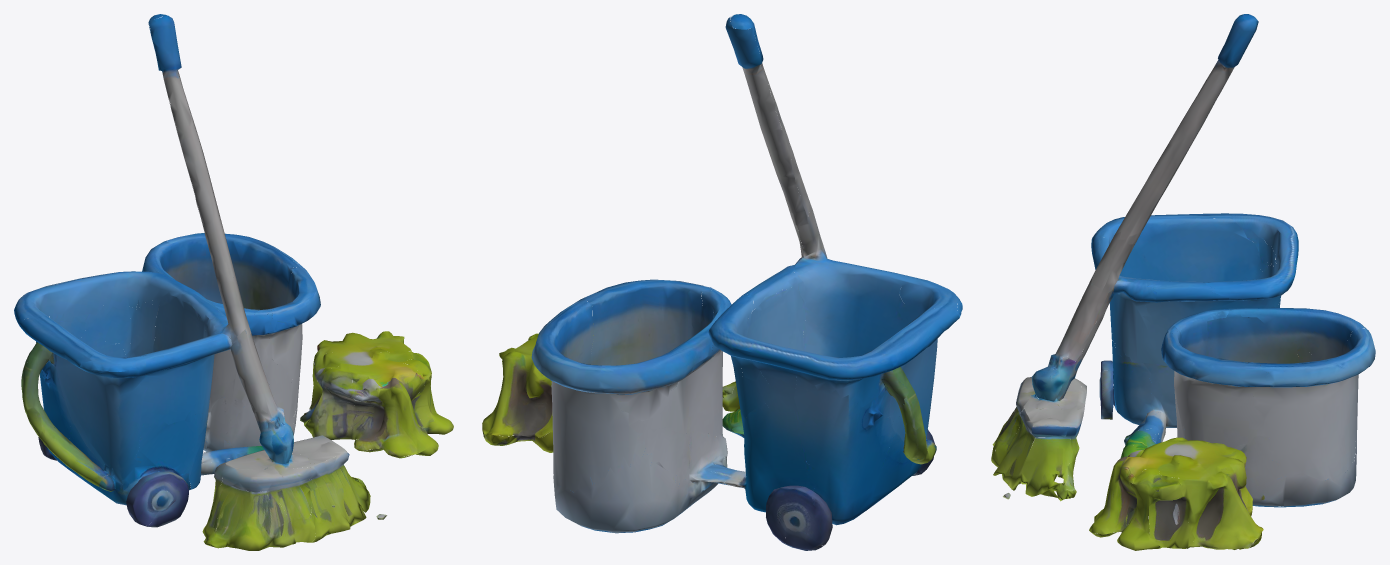
The model's file is prop_janitor_mop_bucket_cart_01.glb.
3 renders of one model, left to right at view 1: azimuth 30°, elevation 25°; view 2: azimuth 150°, elevation 25°; view 3: azimuth 270°, elevation 25°, orthographic. The views are drawn at different scales.
Visible parts, largest first — view 1: tripo_node_ee977d9a-6d3a-4554-9d11-7691dc9fe4ec; view 2: tripo_node_ee977d9a-6d3a-4554-9d11-7691dc9fe4ec; view 3: tripo_node_ee977d9a-6d3a-4554-9d11-7691dc9fe4ec.
Boxes of the visible parts, <box> form: tripo_node_ee977d9a-6d3a-4554-9d11-7691dc9fe4ec: <box>14,14,453,550</box>; tripo_node_ee977d9a-6d3a-4554-9d11-7691dc9fe4ec: <box>482,14,962,550</box>; tripo_node_ee977d9a-6d3a-4554-9d11-7691dc9fe4ec: <box>991,14,1375,550</box>.
Bounding box in the file's own units: 0.9198 × 1 × 0.8029.
1 material, 1 textured.
